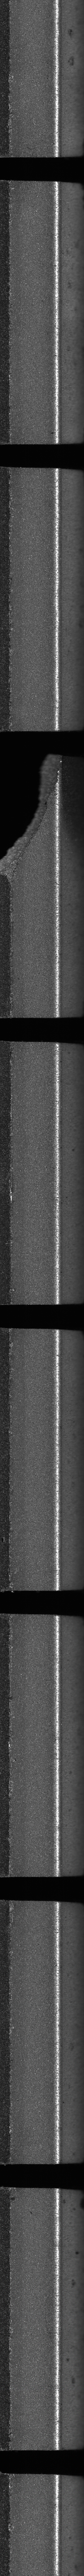Chip: (0, 751, 68, 892)
